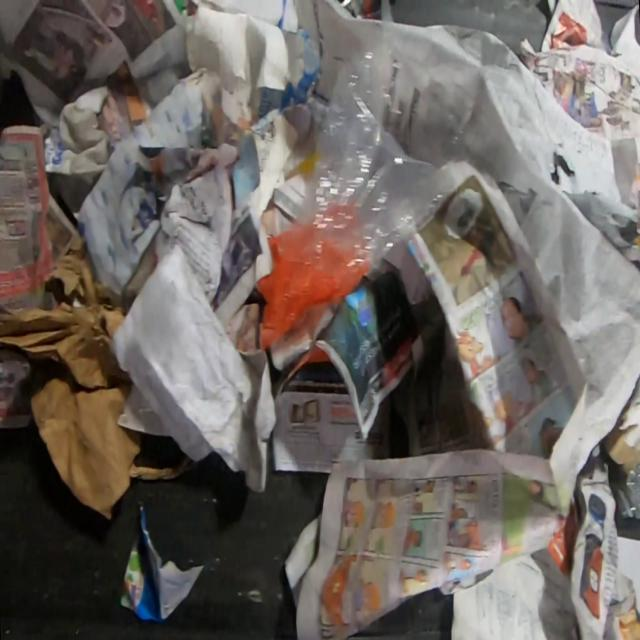cardboard: (0, 237, 197, 520), (602, 374, 640, 473)
rigid_plastic: (610, 460, 640, 521)
soft_plastic: (255, 43, 467, 351)
